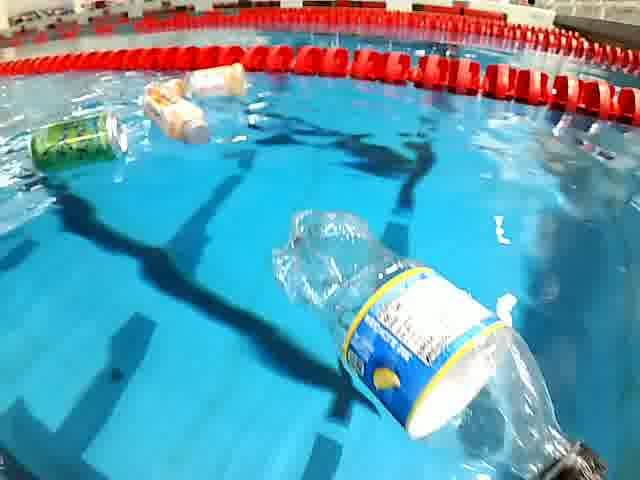Bottle: (266, 203, 619, 480), (135, 89, 218, 147), (156, 59, 254, 101)
Can: (20, 108, 140, 176)
